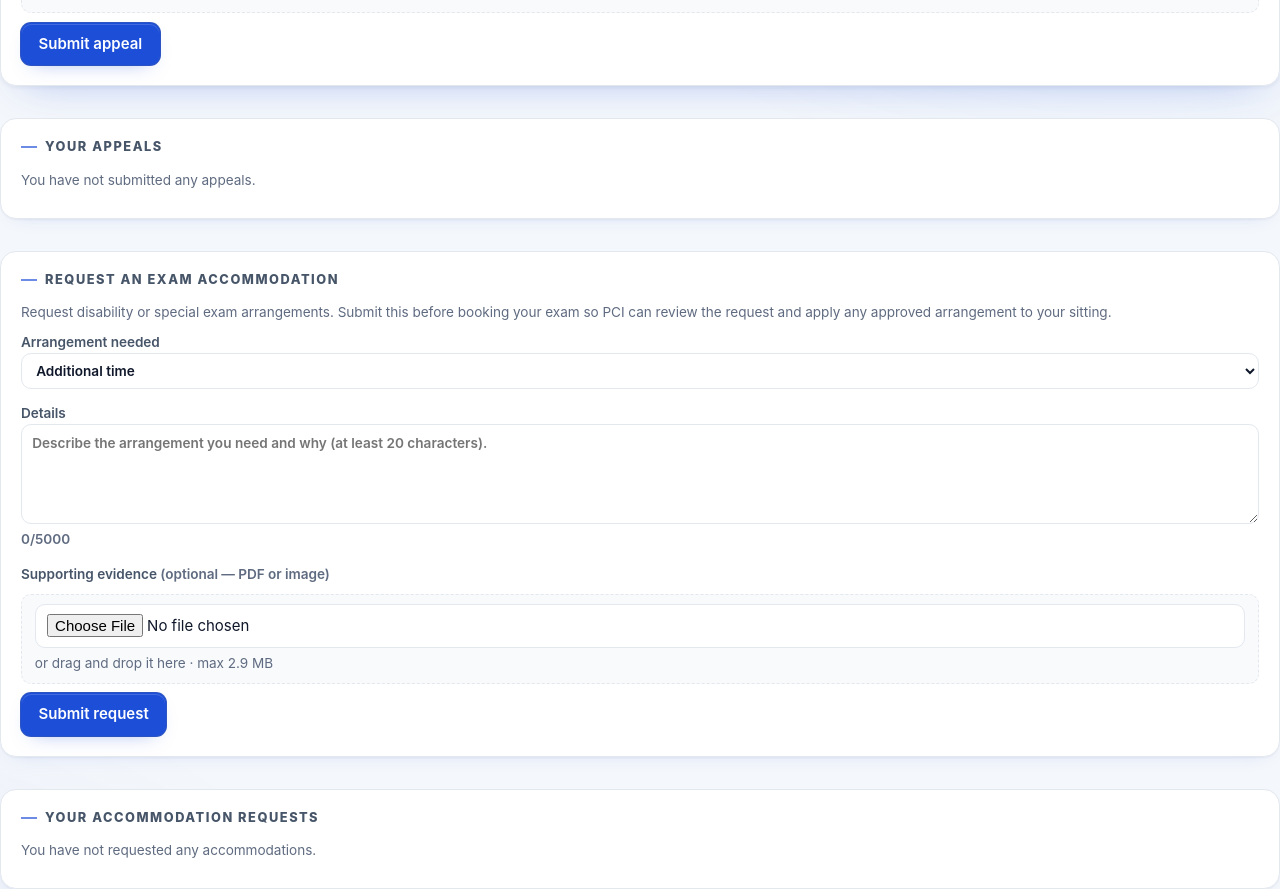
Scenario: Appeals & Accommodations › blocks an accommodation request whose description is under 20 characters
(page scrolled)
Type "need help" into the text box labelled "Details 0/5000" at (640, 474), box 21,424 -> 1259,524
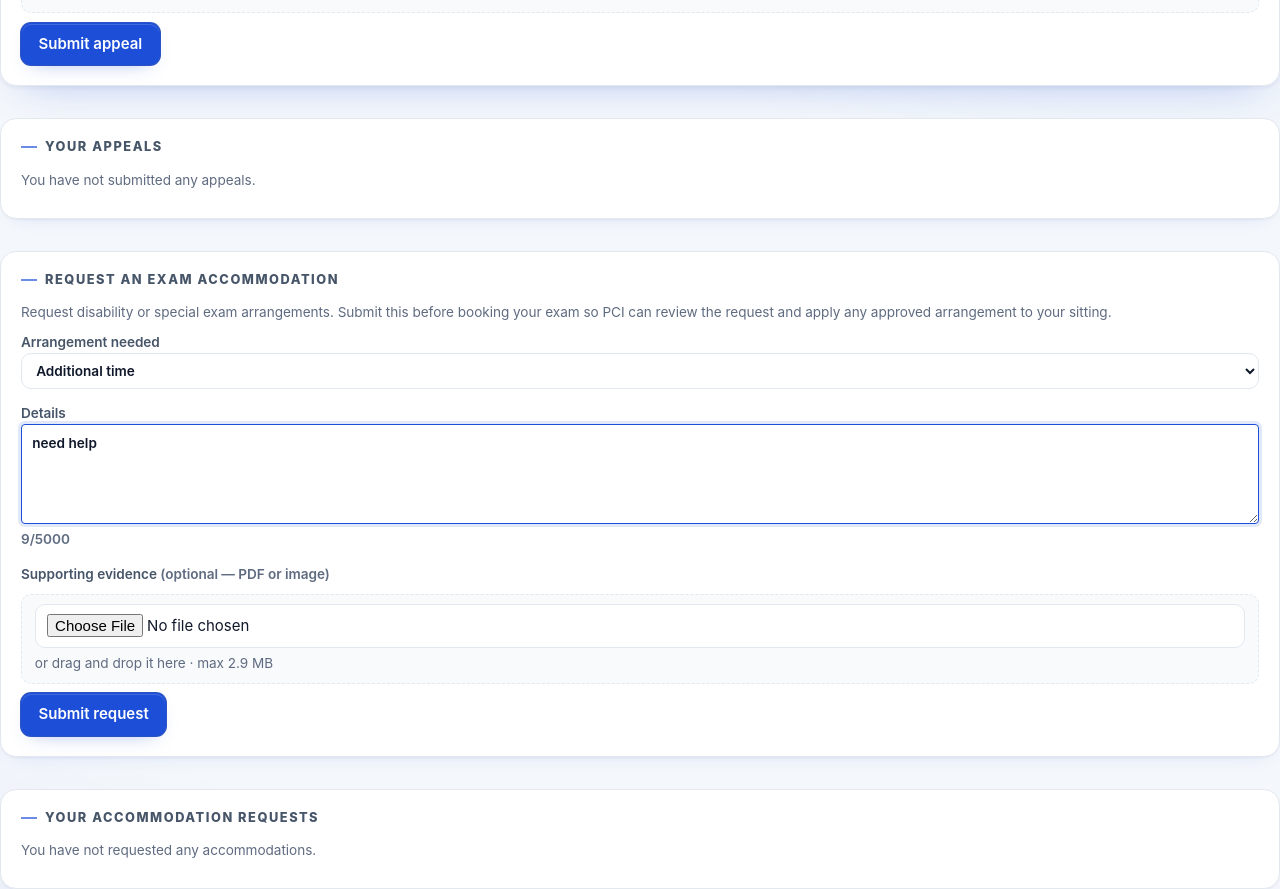
Click the button "Submit request" at (94, 714), box 21,693 -> 166,736
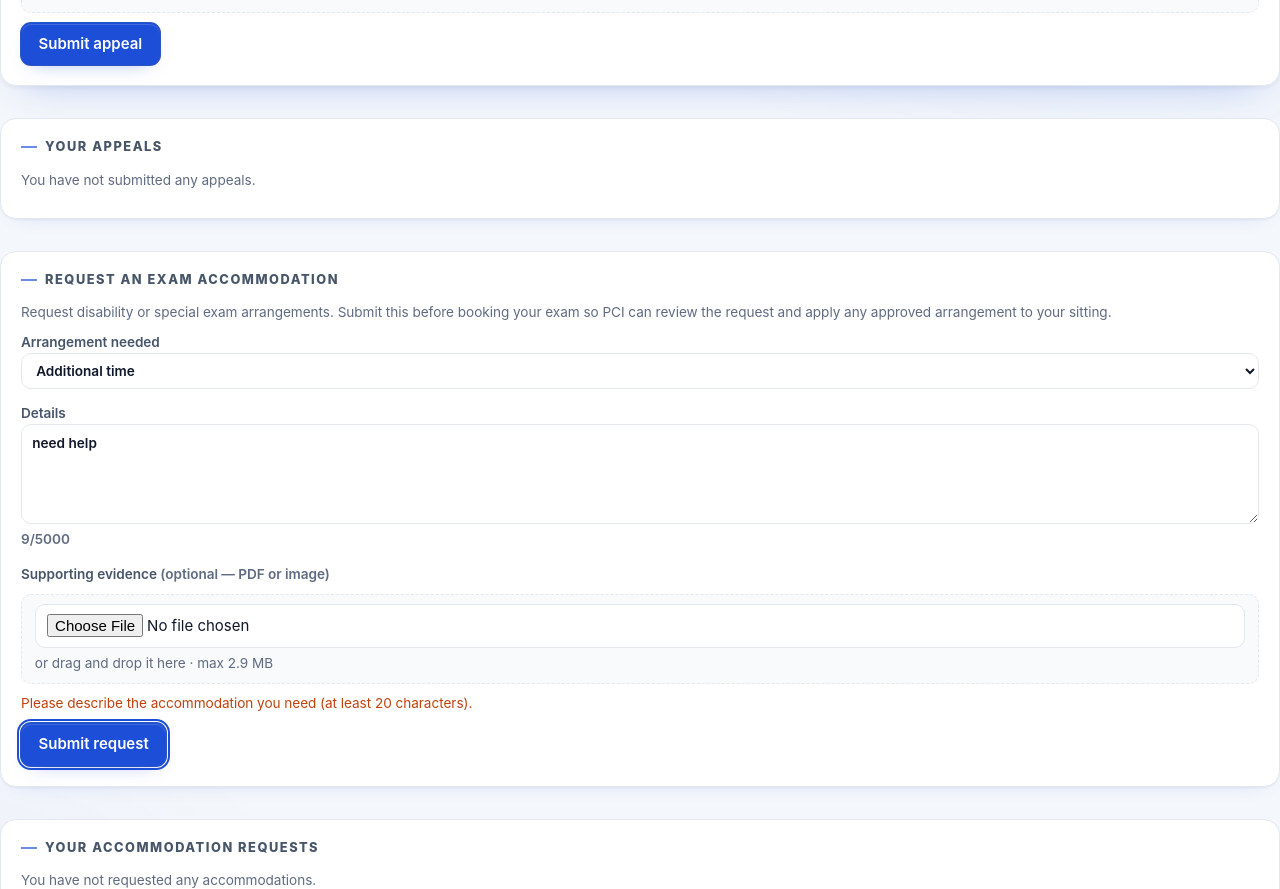
Result: the text "Please describe the accommodation you need (at least 20 characters)." is shown at 21,695 -> 472,711
